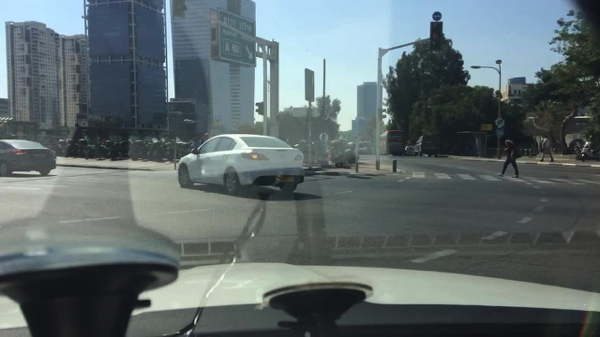bus: (379, 129, 407, 156)
car: (176, 132, 306, 196), (1, 138, 57, 177), (415, 134, 440, 158), (359, 142, 371, 156), (405, 146, 415, 156), (345, 140, 354, 150)
motor: (329, 138, 349, 169), (103, 140, 128, 161), (147, 141, 171, 161), (578, 140, 599, 161), (127, 140, 147, 161), (77, 139, 97, 159), (66, 140, 79, 157), (176, 142, 189, 159), (55, 140, 67, 154), (294, 142, 309, 153), (97, 142, 106, 156), (47, 140, 57, 149)
person: (497, 138, 520, 179), (538, 135, 555, 163)
traffic light: (429, 20, 441, 50), (255, 101, 266, 117), (378, 107, 386, 121)
traffic sign: (214, 6, 256, 68), (302, 68, 314, 103), (289, 106, 318, 117), (0, 98, 11, 117), (478, 123, 492, 132), (318, 132, 329, 142), (495, 118, 505, 127), (432, 11, 440, 20), (495, 129, 505, 136)
